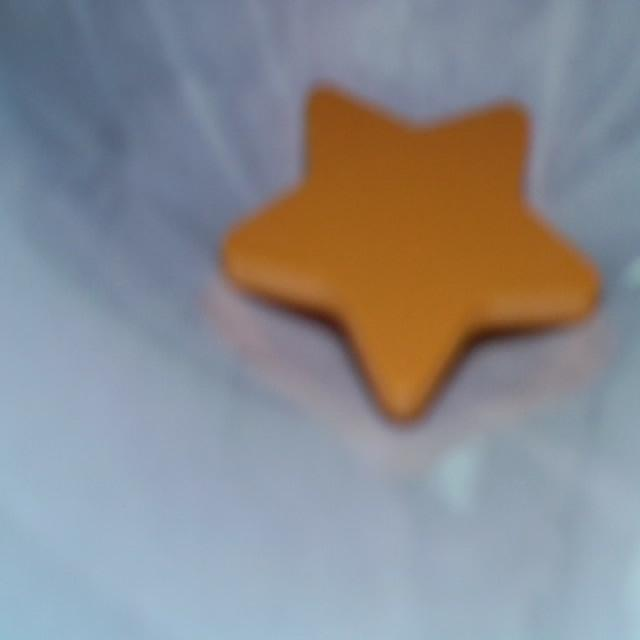star: (231, 91, 590, 413)
